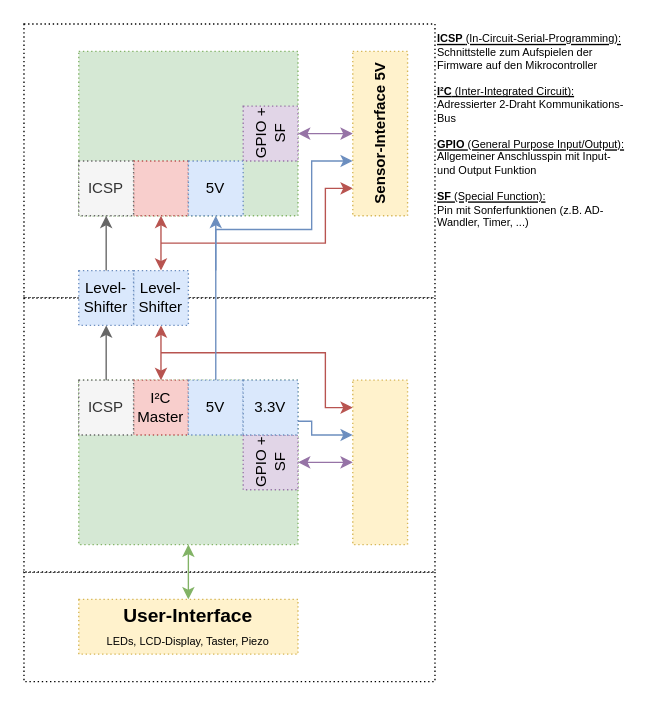
The diagram is 651 pixels wide and 706 high, and some of its shapes have lost their labels. The box of each missing label's shape, as (x1, y1, x2, y2) in pixels:
3.3V Sektion: (23, 297, 435, 572)
5V Sektion: (23, 23, 435, 298)
I²C Slave: (132, 160, 188, 216)
Mikrocontroller: (77, 50, 298, 216)
Raspberry Pi 3B: (77, 379, 298, 545)
Sensor-Interface 3.3V: (351, 379, 408, 545)
